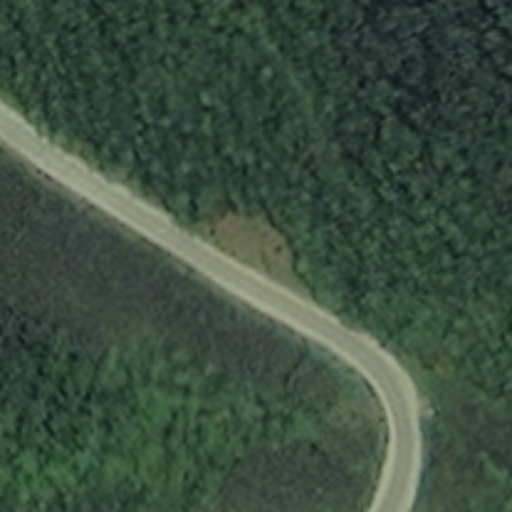landslide: (203, 211, 313, 300)
